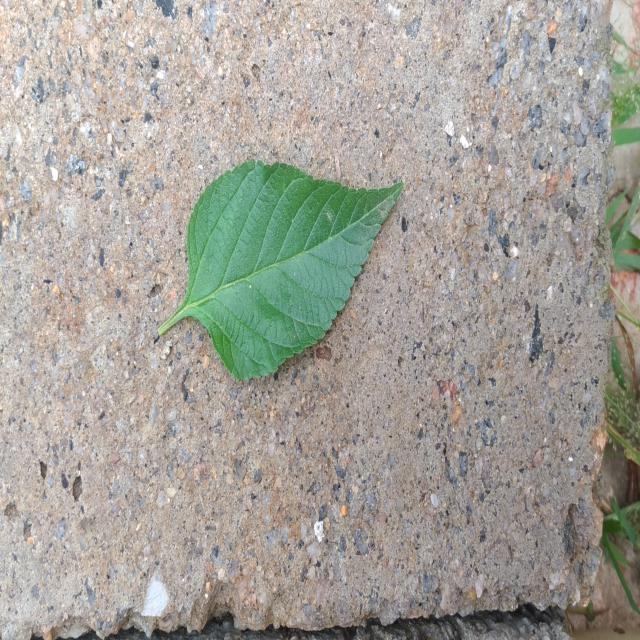Lantana: (159, 160, 402, 380)
